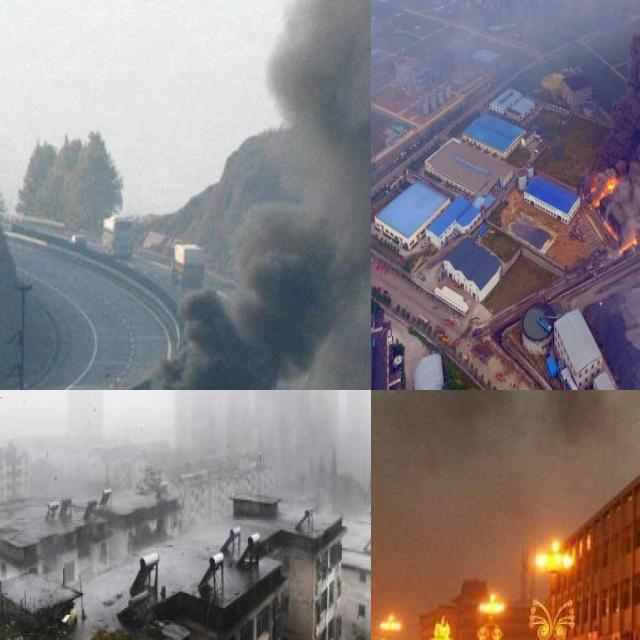fire: (587, 164, 635, 250), (588, 169, 618, 207)
smoke: (176, 0, 371, 390), (371, 390, 640, 470), (103, 390, 171, 428), (189, 390, 254, 428)
